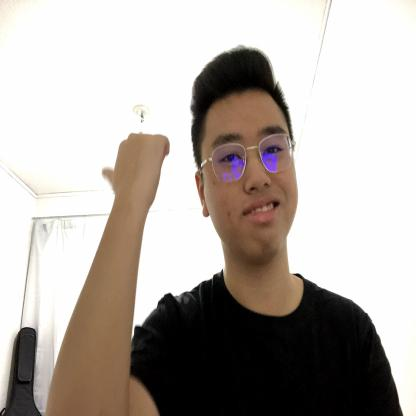right: (98, 132, 172, 214)
